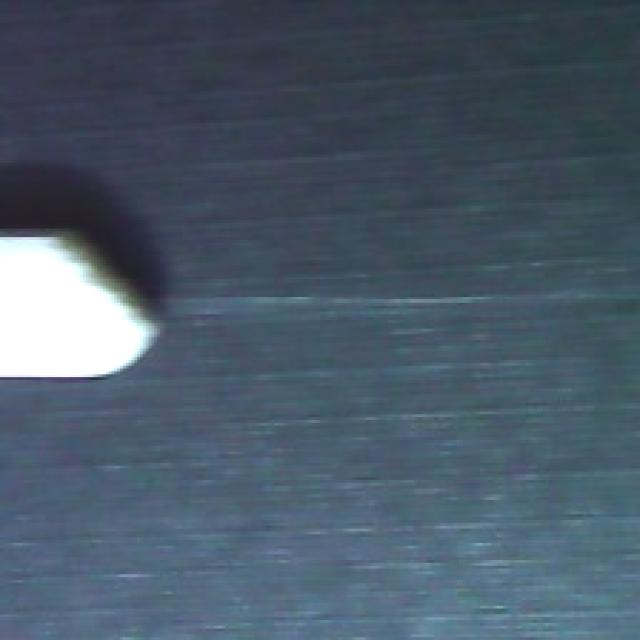defected: (0, 223, 174, 386)
